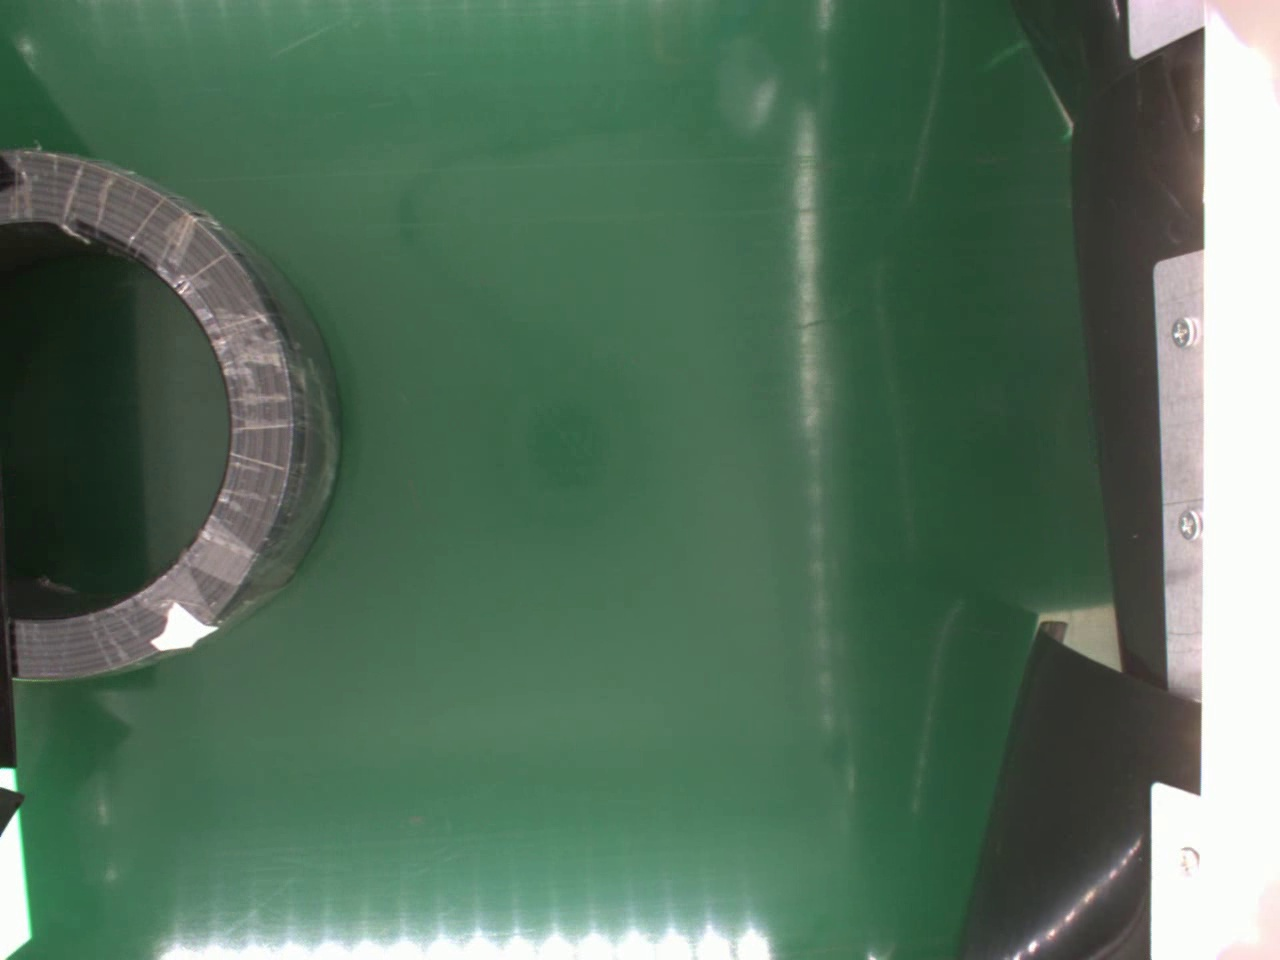black: (0, 144, 345, 687)
